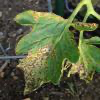Tomato Septoria leaf spot: (11, 8, 99, 98), (58, 35, 99, 85)
